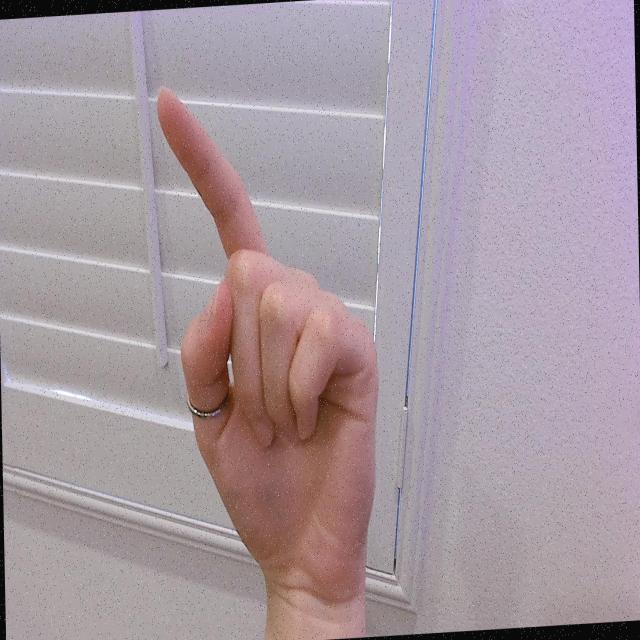Z: (156, 70, 385, 604)
